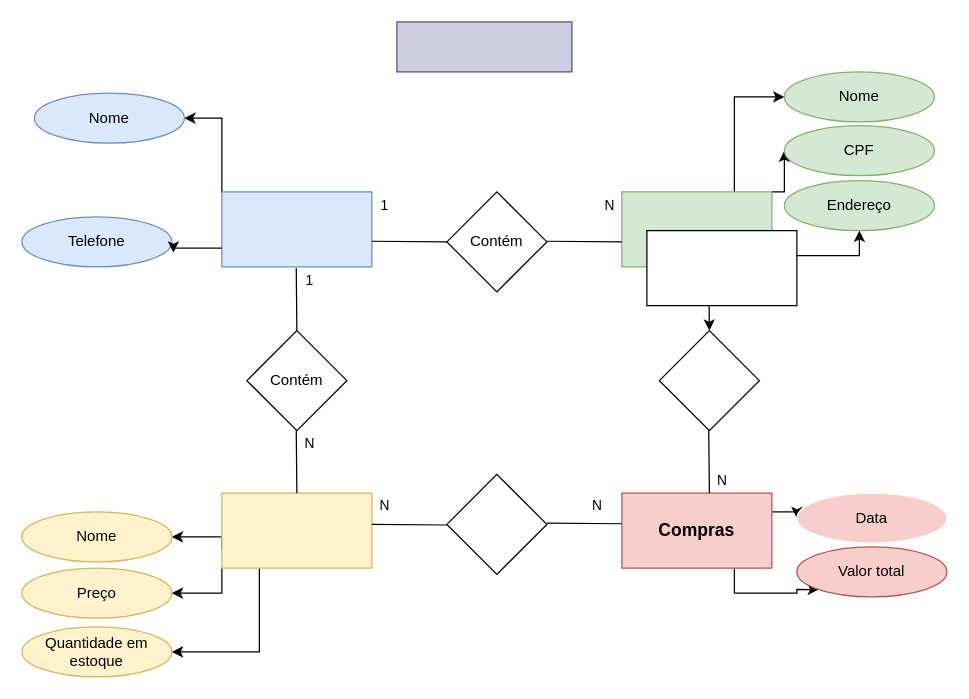
Some shapes in this 969 by 699 pixel diagram are drawn without their labels. The centre of each missing label's shape, as x and y in pixels:
Clientes: (696,229)
Incluído: (496,523)
Loja: (296,229)
LOJA MESA 1: (484,46)
Produtos: (296,530)
Realiza: (708,380)
